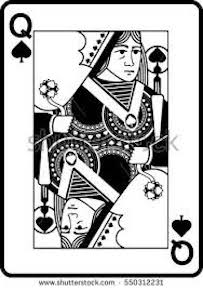QueenOfSpades: (1, 1, 203, 277)
